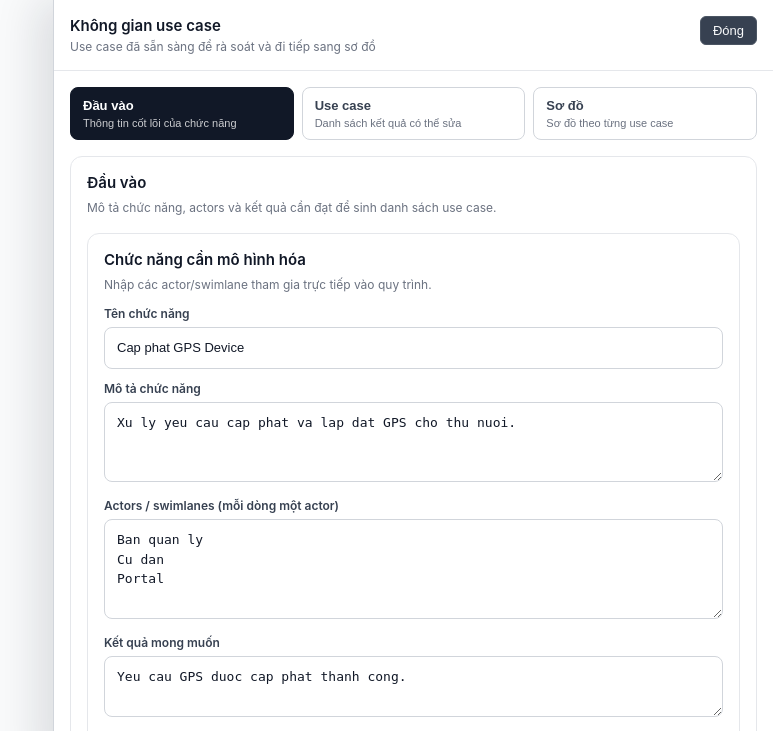
Scenario: UseCasePanel › edits structured flows without exposing raw stable IDs
Click the button "Use case Danh sách kết quả có thể sửa" at (414, 114), box [302,87,525,140]
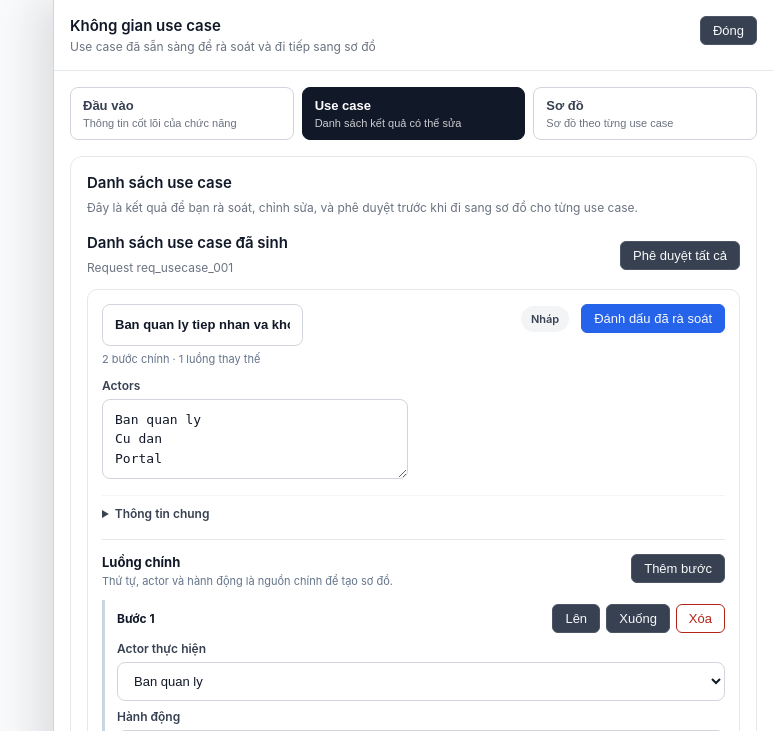
Click the button "Thêm bước" at (678, 569), box [631,554,725,583]
(page scrolled)
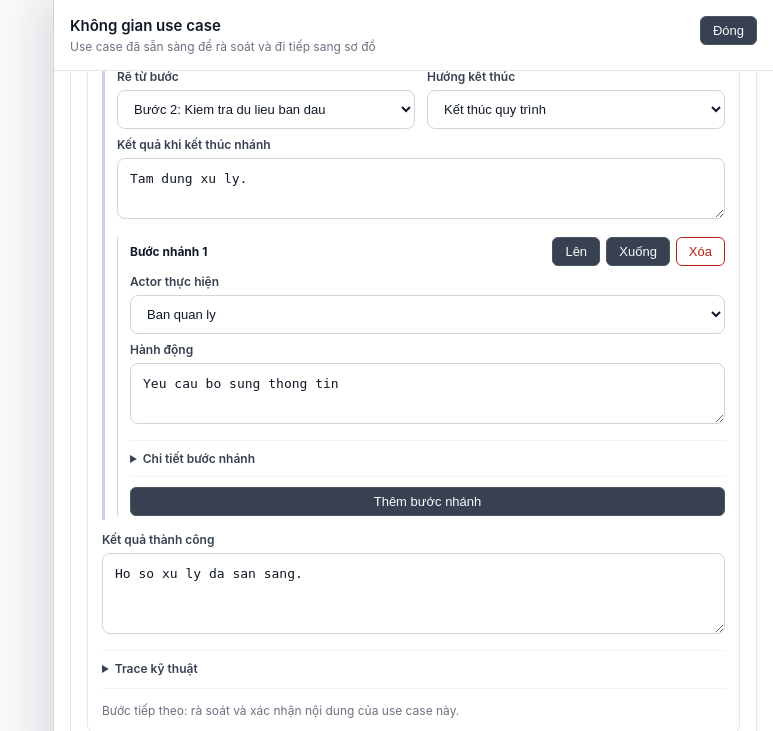
Click the button "Thêm bước nhánh" at (428, 502), box [130,487,725,516]
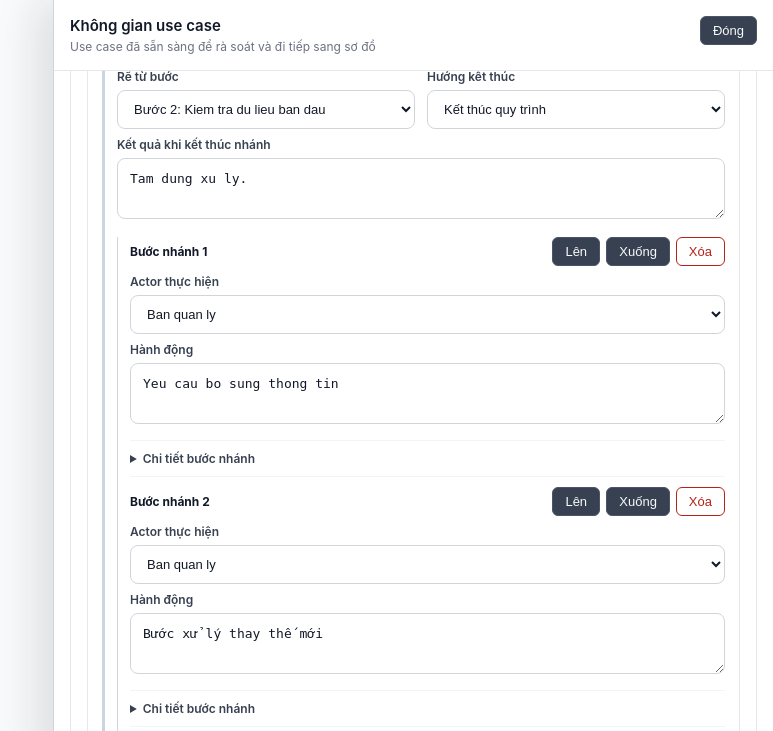
Expected: the text "Bước nhánh 2" is shown, [130,494,210,509]
